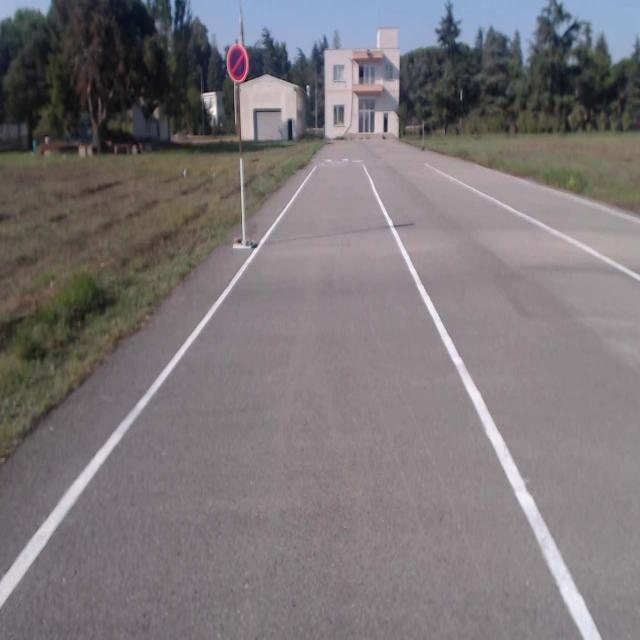parkyasak: (226, 44, 248, 81)
